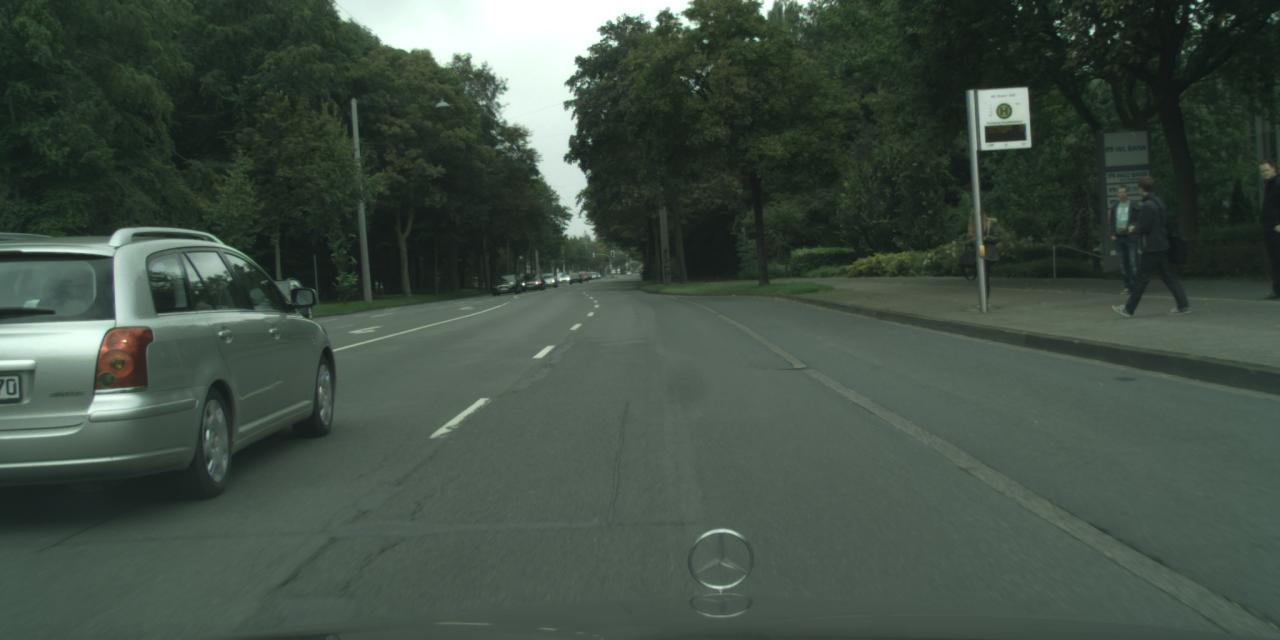ped: (1118, 174, 1176, 314), (1242, 158, 1278, 298), (1103, 185, 1148, 292), (960, 205, 1001, 308)
